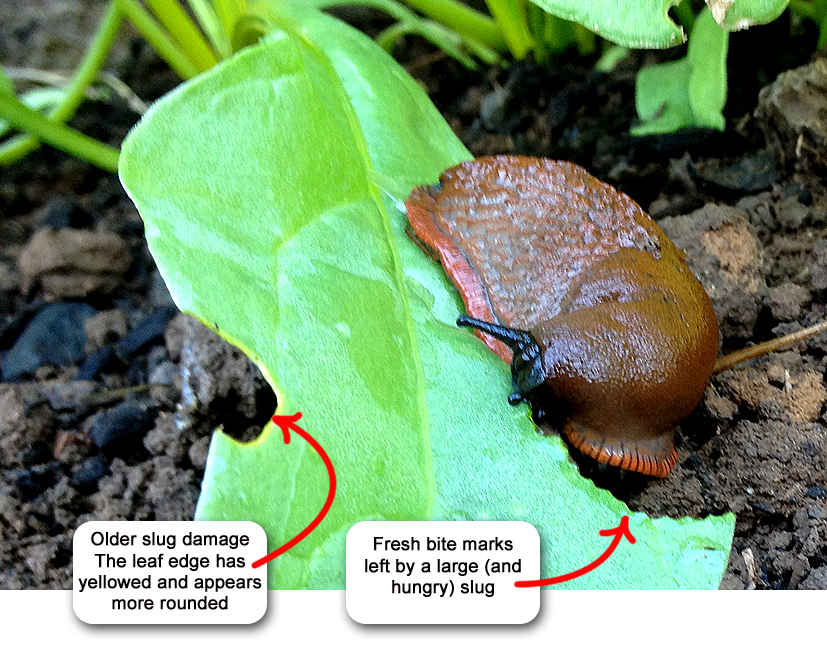slug: (402, 155, 712, 493)
